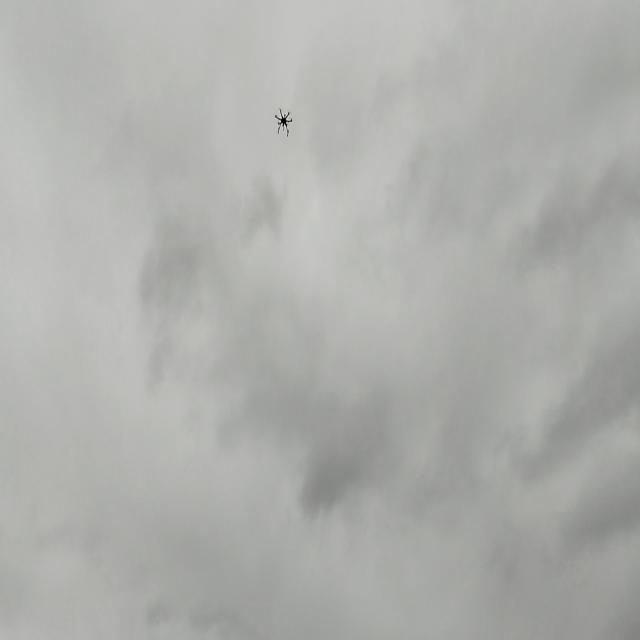drone: (274, 104, 296, 137)
